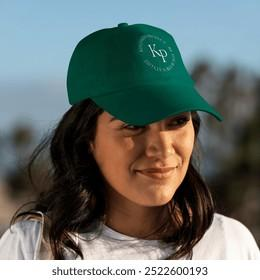cap: (60, 19, 230, 127)
